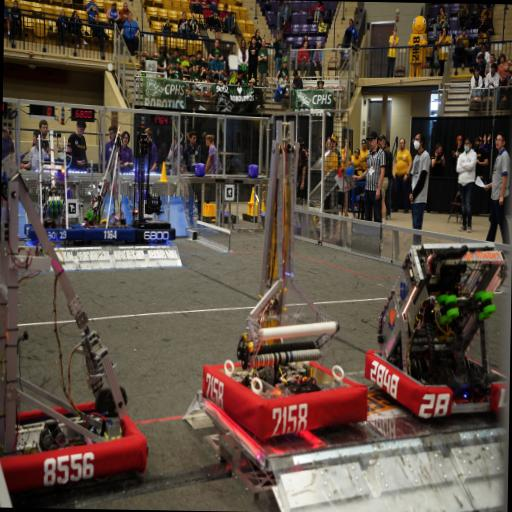robot: (200, 116, 374, 443), (0, 153, 149, 494), (366, 233, 512, 417), (26, 123, 88, 243), (89, 123, 137, 241), (135, 130, 176, 243)
